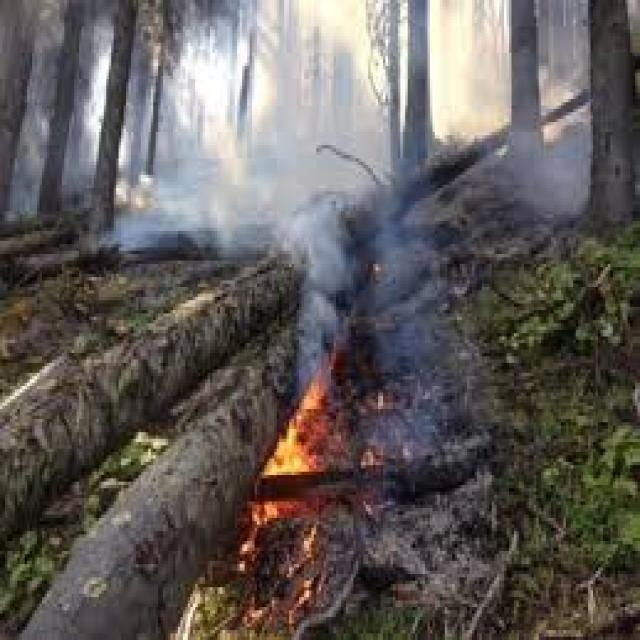Fire: (248, 366, 396, 597)
Smoke: (120, 49, 370, 272), (288, 219, 424, 369), (492, 134, 583, 216)
